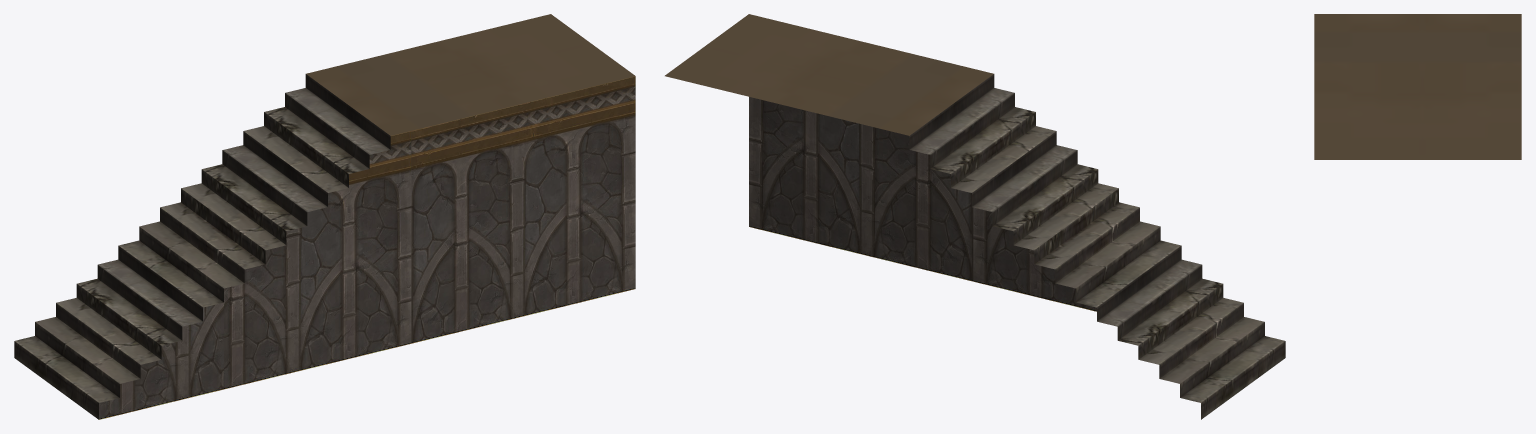
File: Time limit_Other_04.FBX
The picture shows the model from 3 angles, left to right: view 1: azimuth 30°, elevation 25°; view 2: azimuth 150°, elevation 25°; view 3: azimuth 270°, elevation 25°; orthographic projection. The views are drawn at different scales.
Visible parts, largest first — view 1: Time limit_Other_04_01, Time limit_Other_04_02; view 2: Time limit_Other_04_01, Time limit_Other_04_02; view 3: Time limit_Other_04_01.
Part boxes in pixels (bbox=[...]): Time limit_Other_04_01: bbox=[99, 14, 635, 419]; Time limit_Other_04_02: bbox=[14, 74, 390, 419]; Time limit_Other_04_01: bbox=[665, 14, 1096, 311]; Time limit_Other_04_02: bbox=[909, 74, 1285, 419]; Time limit_Other_04_01: bbox=[1314, 14, 1521, 159].
Bounding box in the file's own units: 25.02 × 9.49 × 6.85.
